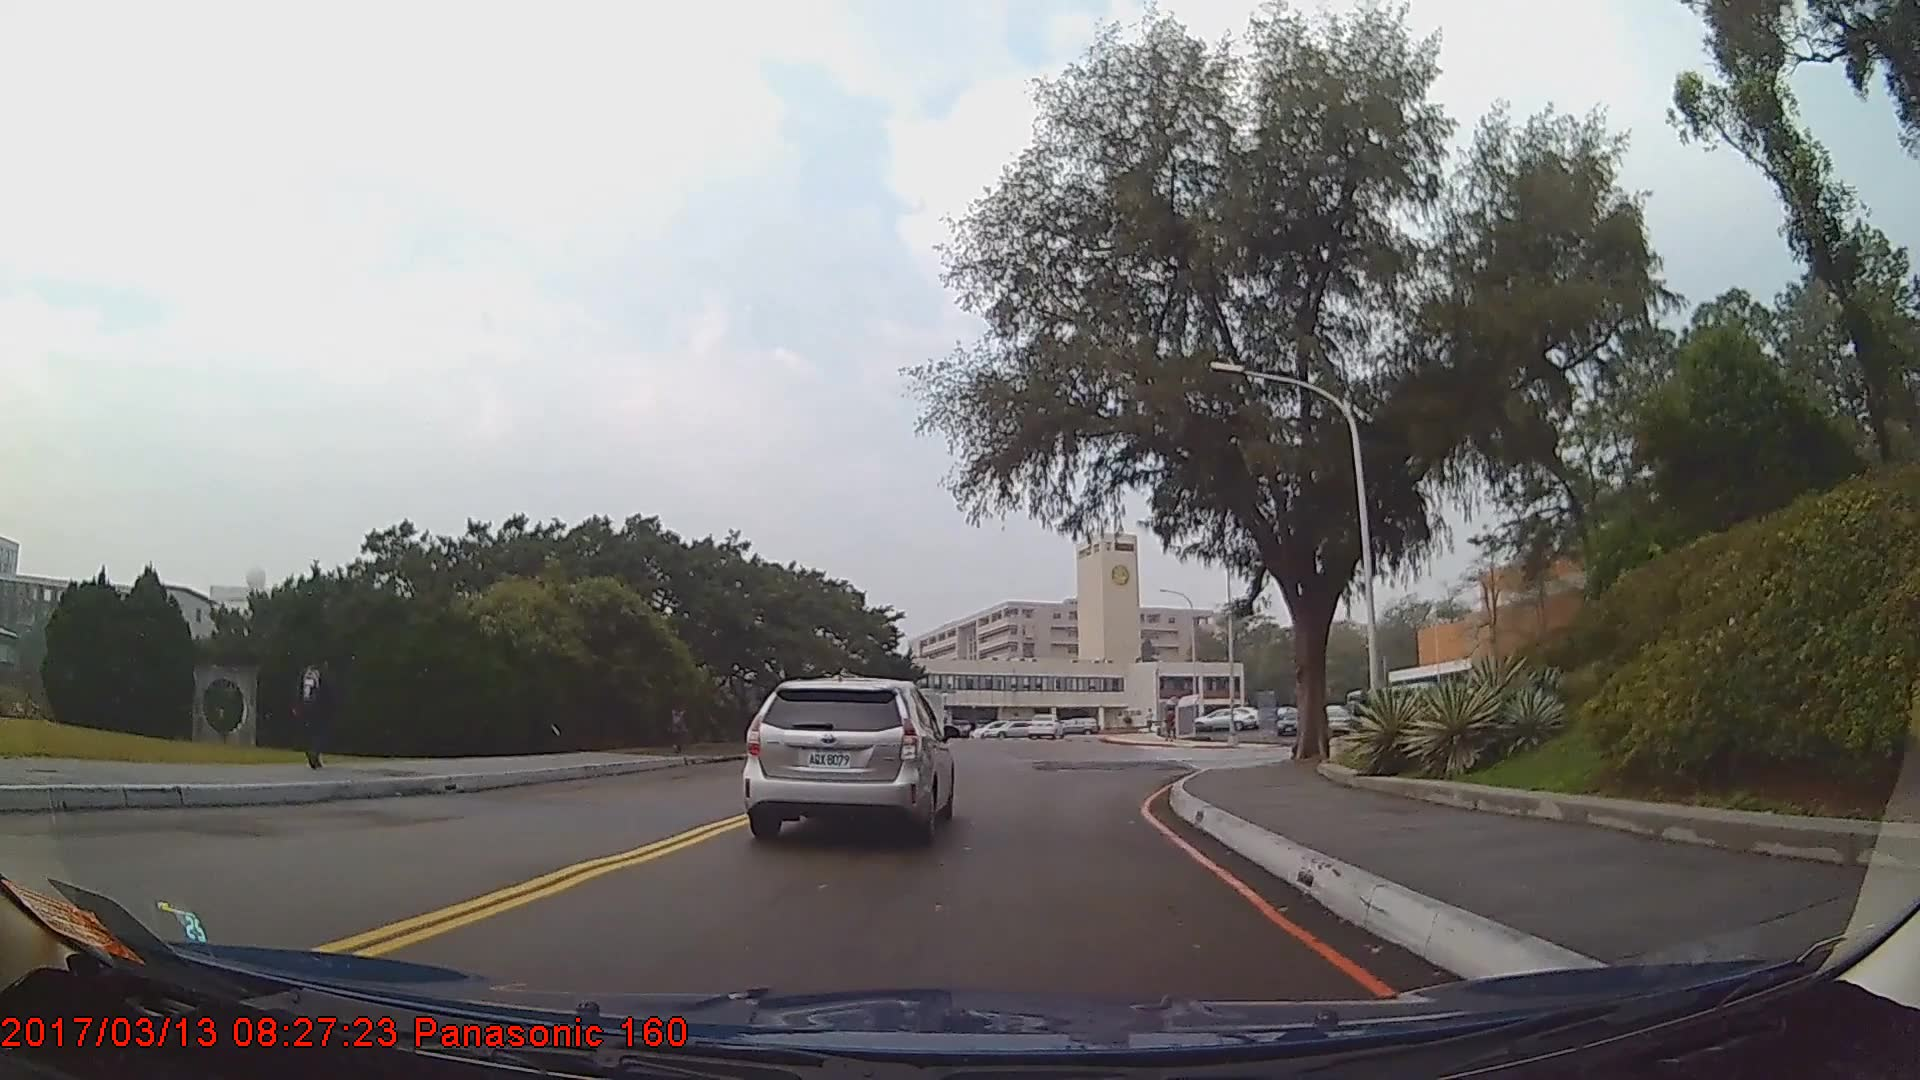pedestrian: (288, 644, 340, 772)
vehicle: (742, 674, 953, 842), (1195, 707, 1256, 733), (980, 714, 1036, 739), (1023, 710, 1066, 737), (1319, 706, 1347, 733), (1272, 710, 1299, 734)
